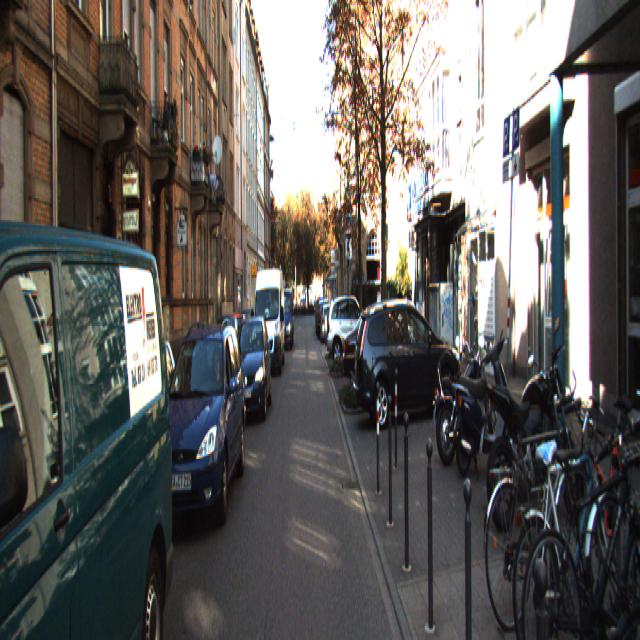Car: (0, 144, 181, 638), (144, 316, 246, 554), (478, 331, 588, 534), (352, 292, 461, 432), (450, 328, 515, 484), (343, 304, 426, 399), (229, 315, 272, 431), (326, 294, 380, 370), (251, 264, 285, 380), (274, 288, 295, 352), (320, 302, 336, 345)
